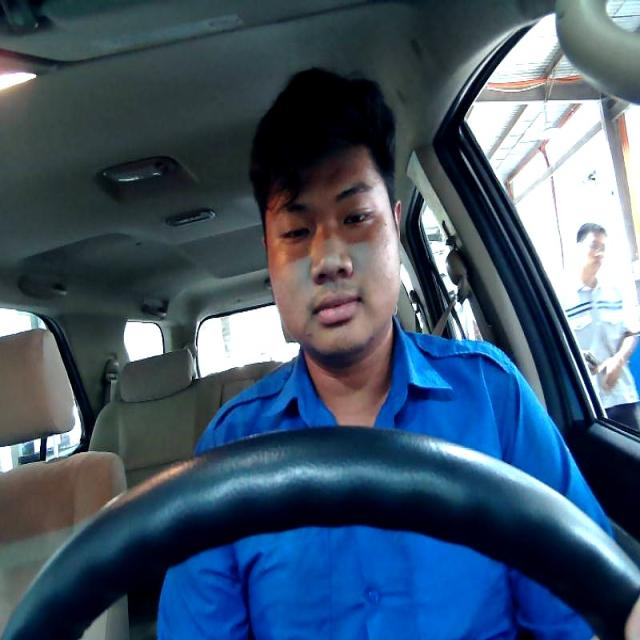focused: (260, 146, 402, 355)
